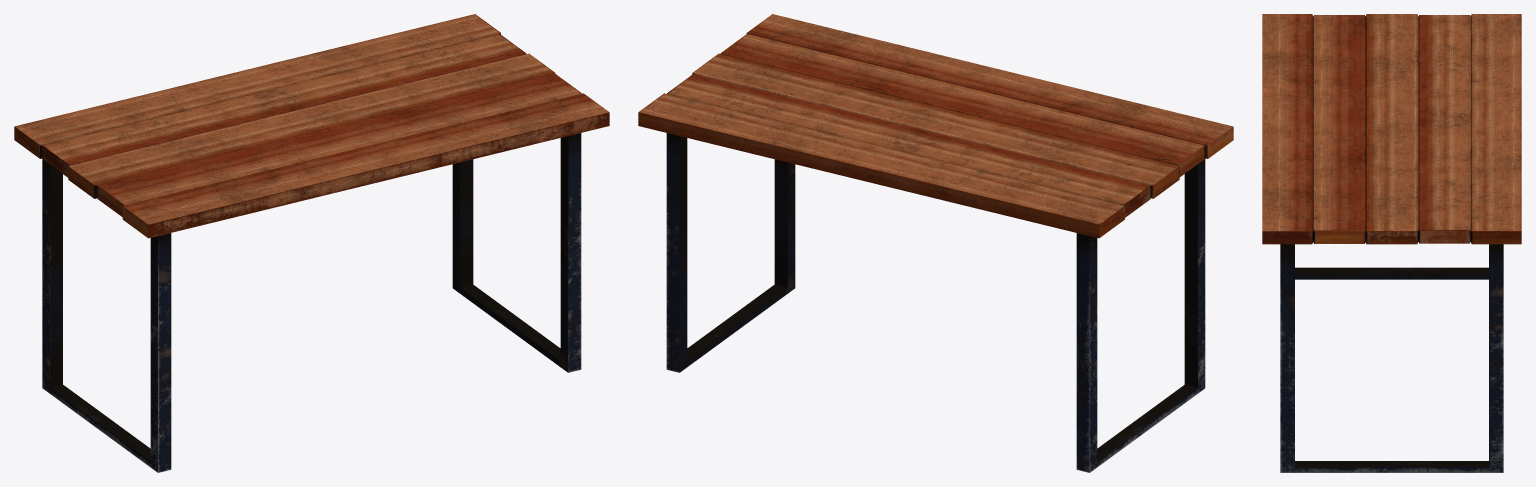
The picture shows the model from 3 angles, left to right: view 1: azimuth 30°, elevation 25°; view 2: azimuth 150°, elevation 25°; view 3: azimuth 270°, elevation 25°; orthographic projection. The views are drawn at different scales.
Visible parts, largest first — view 1: Table_01; view 2: Table_01; view 3: Table_01.
Part boxes in pixels (box(x1,y1,x2,y2)): Table_01: box(14, 14, 609, 472); Table_01: box(638, 14, 1233, 472); Table_01: box(1262, 14, 1521, 472).
Size of the model in its own units: 2 by 1.08 by 1.01.
Materials: 1 (1 with a texture image).
